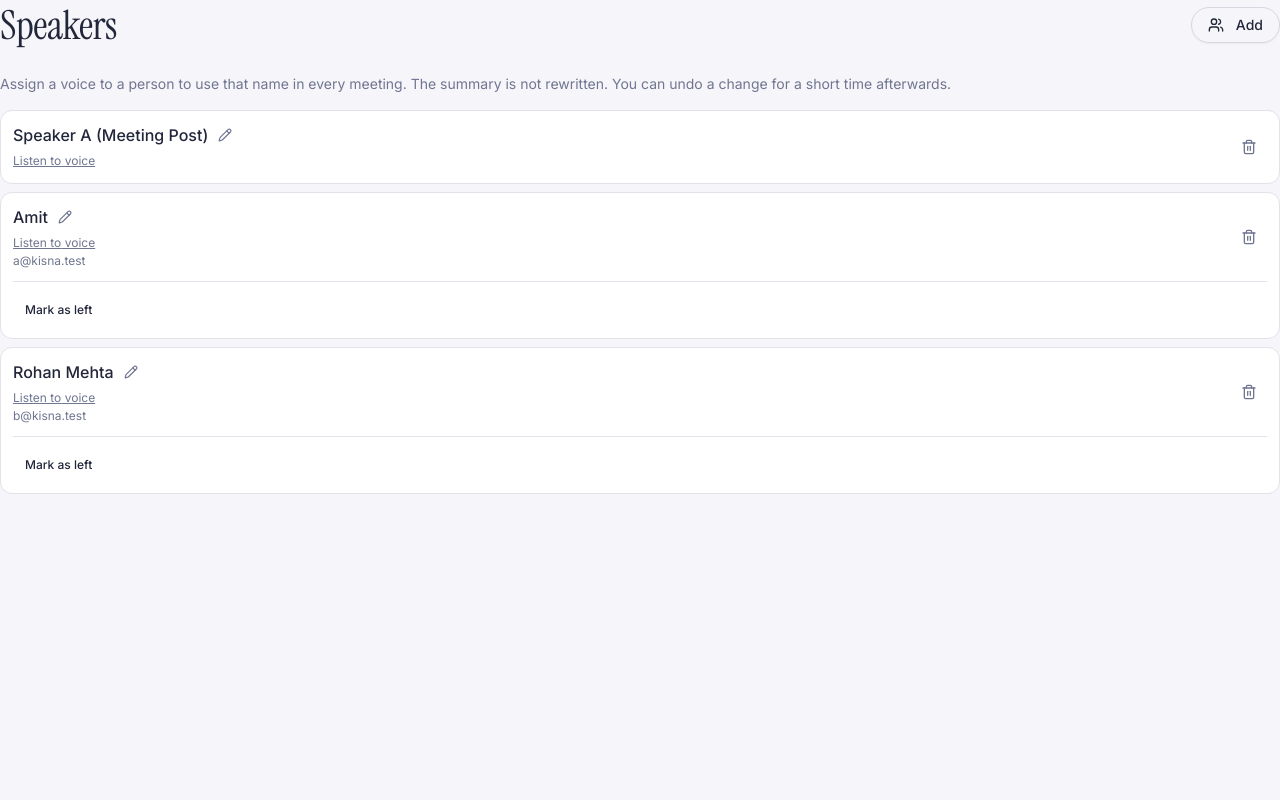
Speakers assign controls › has a pencil after each name that opens a search list drawn by the app, not a native select
Expected: the text "Speaker A (Meeting Post)" is shown, [13,123,208,147]
Click the button named "Assign Speaker A (Meeting Post) to a person". click: click(225, 135)
box: [214,124,236,146]
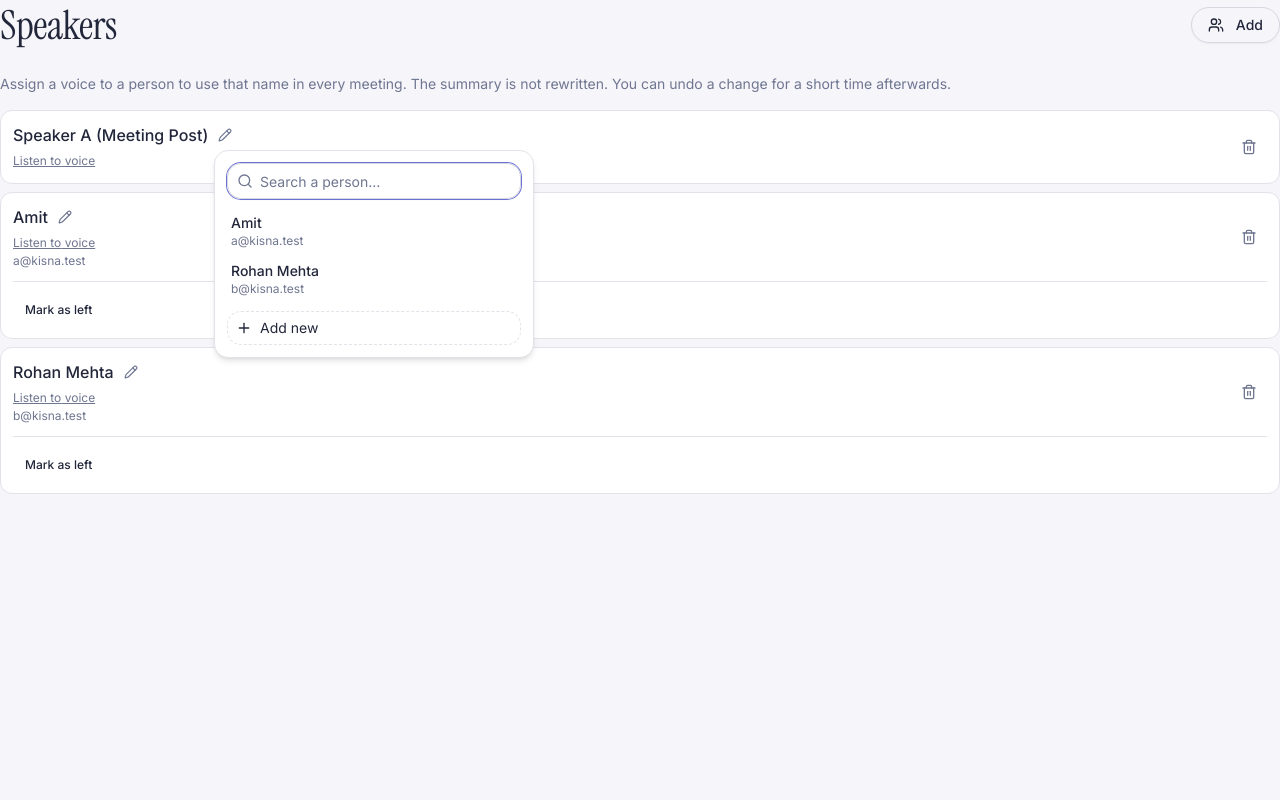
Expected: the list shows "Amit", [223,207,525,255]
Expected: the list shows "a@kisna.test", [223,207,525,255]
Expected: the list shows "Rohan Mehta", [223,255,525,303]
